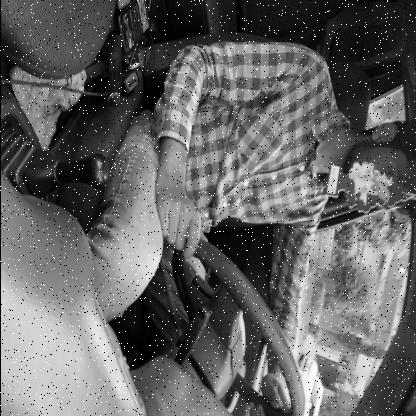no_seatbelt: (210, 107, 416, 236)
